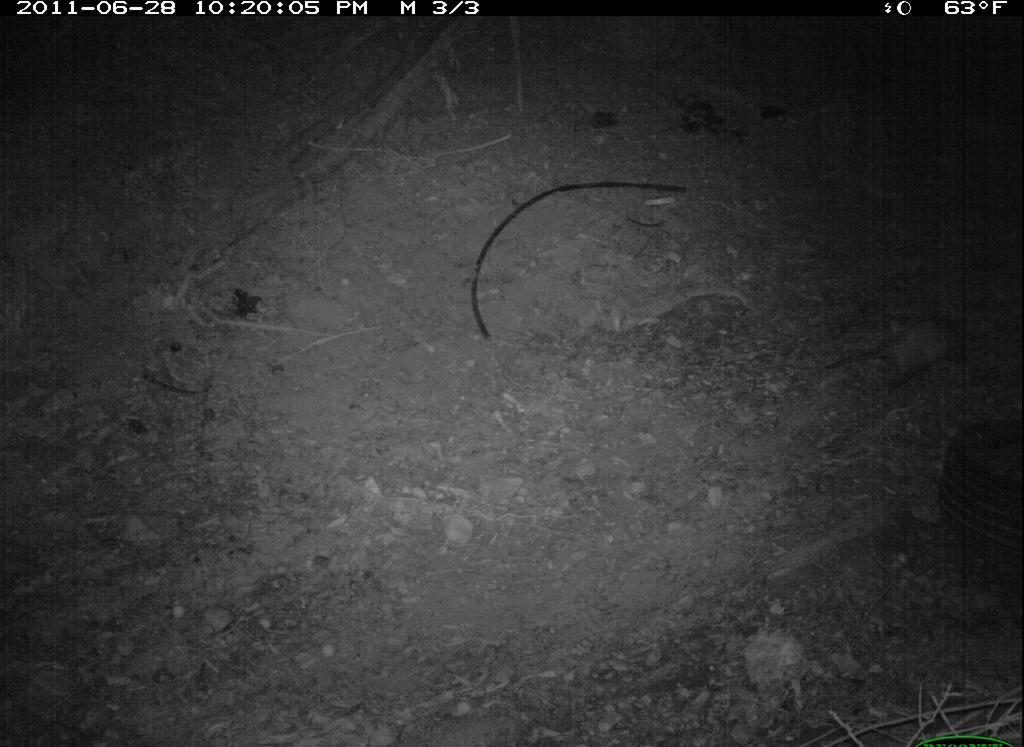opossum: (822, 301, 990, 408)
